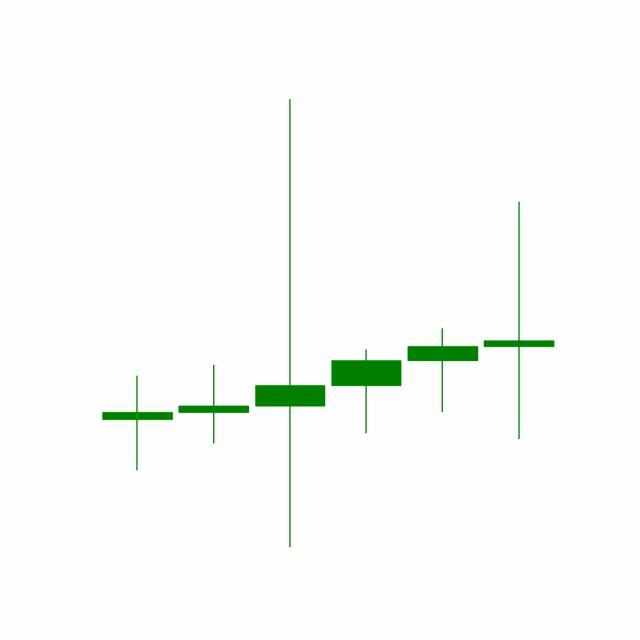Dragonfly Doji: (404, 327, 482, 414)
